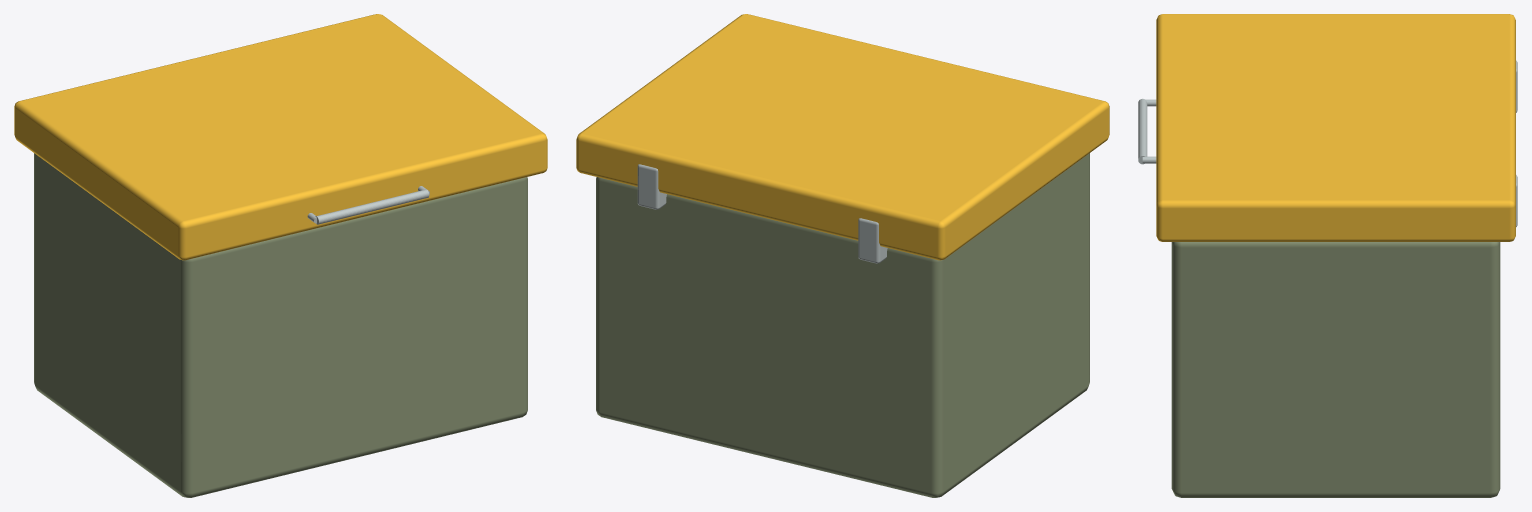
The model's file is mountain-border-checkpoint-mountain-border-checkpoint--e4cb390e__30325.glb.
The picture shows the model from 3 angles, left to right: view 1: azimuth 30°, elevation 25°; view 2: azimuth 150°, elevation 25°; view 3: azimuth 270°, elevation 25°; orthographic projection. The views are drawn at different scales.
Visible parts, largest first — view 1: mountain-border-checkpoint-grit-storage-bin; view 2: mountain-border-checkpoint-grit-storage-bin; view 3: mountain-border-checkpoint-grit-storage-bin.
Boxes of the visible parts, <box> form: mountain-border-checkpoint-grit-storage-bin: <box>14,14,547,497</box>; mountain-border-checkpoint-grit-storage-bin: <box>576,14,1109,497</box>; mountain-border-checkpoint-grit-storage-bin: <box>1138,14,1517,497</box>.
Size of the model in its own units: 1.17 by 0.87 by 0.982.
